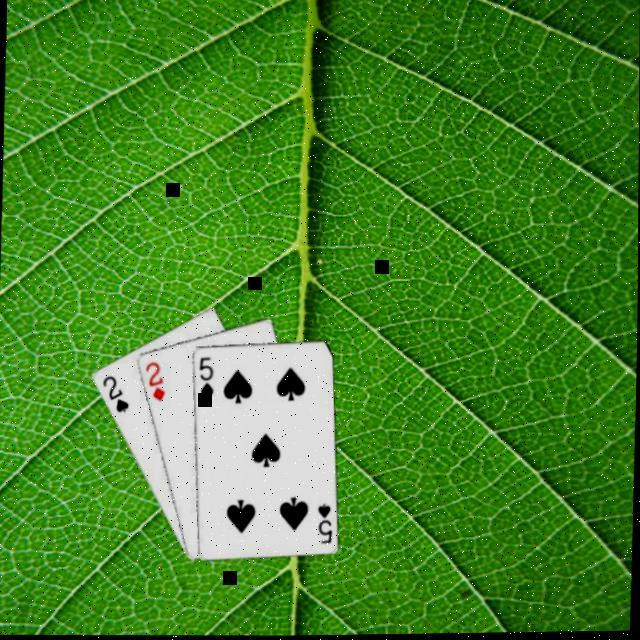2D: (140, 360, 167, 406)
2S: (96, 374, 130, 417)
5S: (312, 502, 334, 548), (193, 356, 214, 402)
